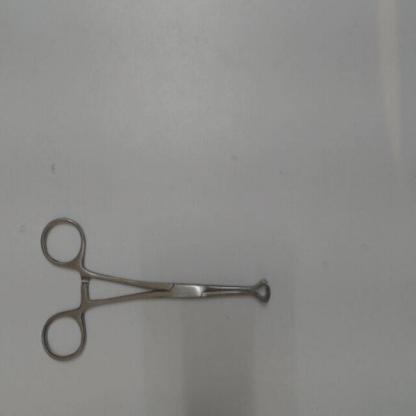Babcock Tissue Forceps: (35, 210, 274, 368)
